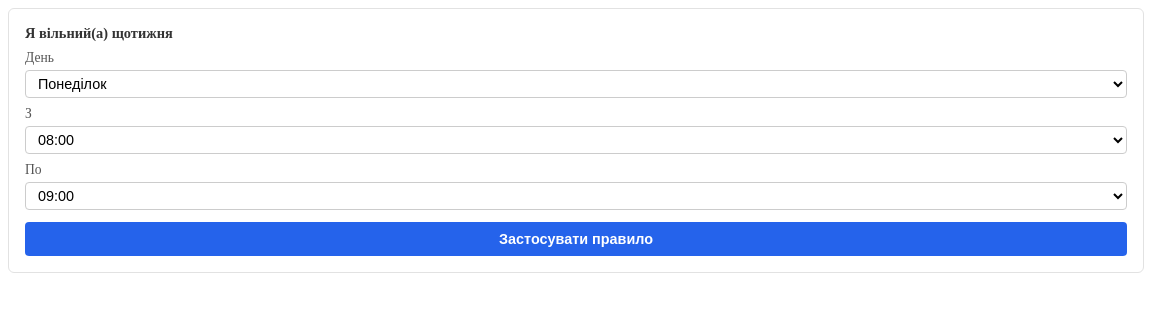
it: RecurringRuleForm › blocks submit and shows a field error for an inverted range
Select "10:00" in the dropdown labelled "З" at {"x": 576, "y": 140}, box [25, 126, 1127, 154]
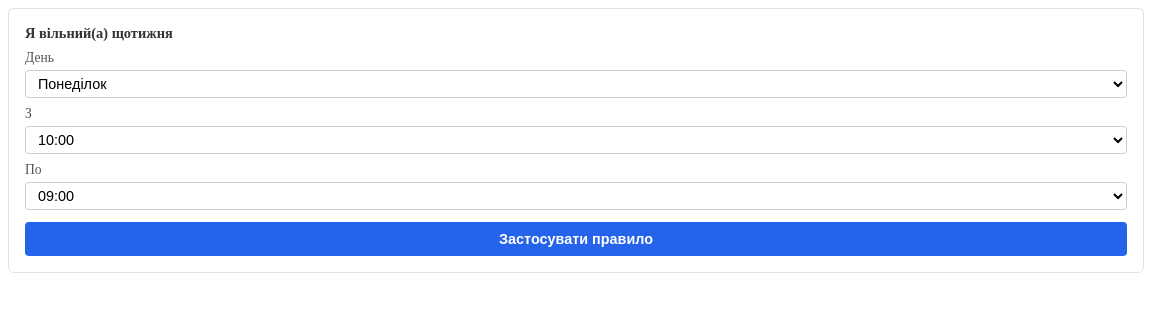
Select "09:00" in the dropdown labelled "По" at {"x": 576, "y": 196}, box [25, 182, 1127, 210]
Click the button "Застосувати правило" at {"x": 576, "y": 239}, box [25, 222, 1127, 256]
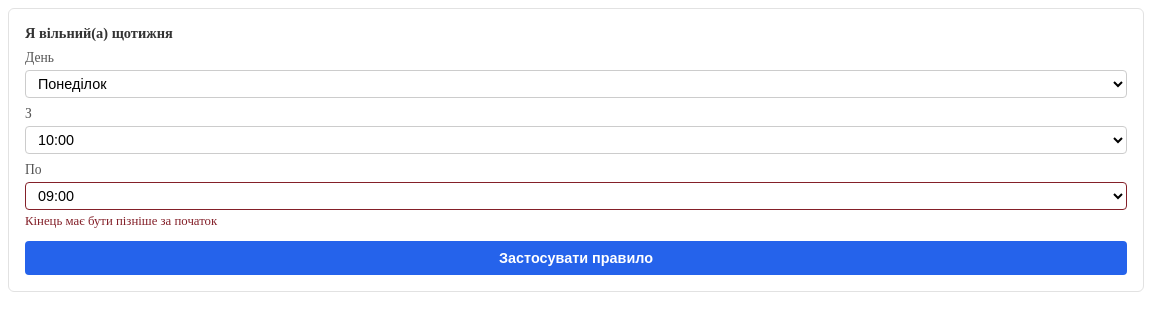
Check: the text "Кінець має бути пізніше за початок" is shown, box [25, 214, 217, 228]
